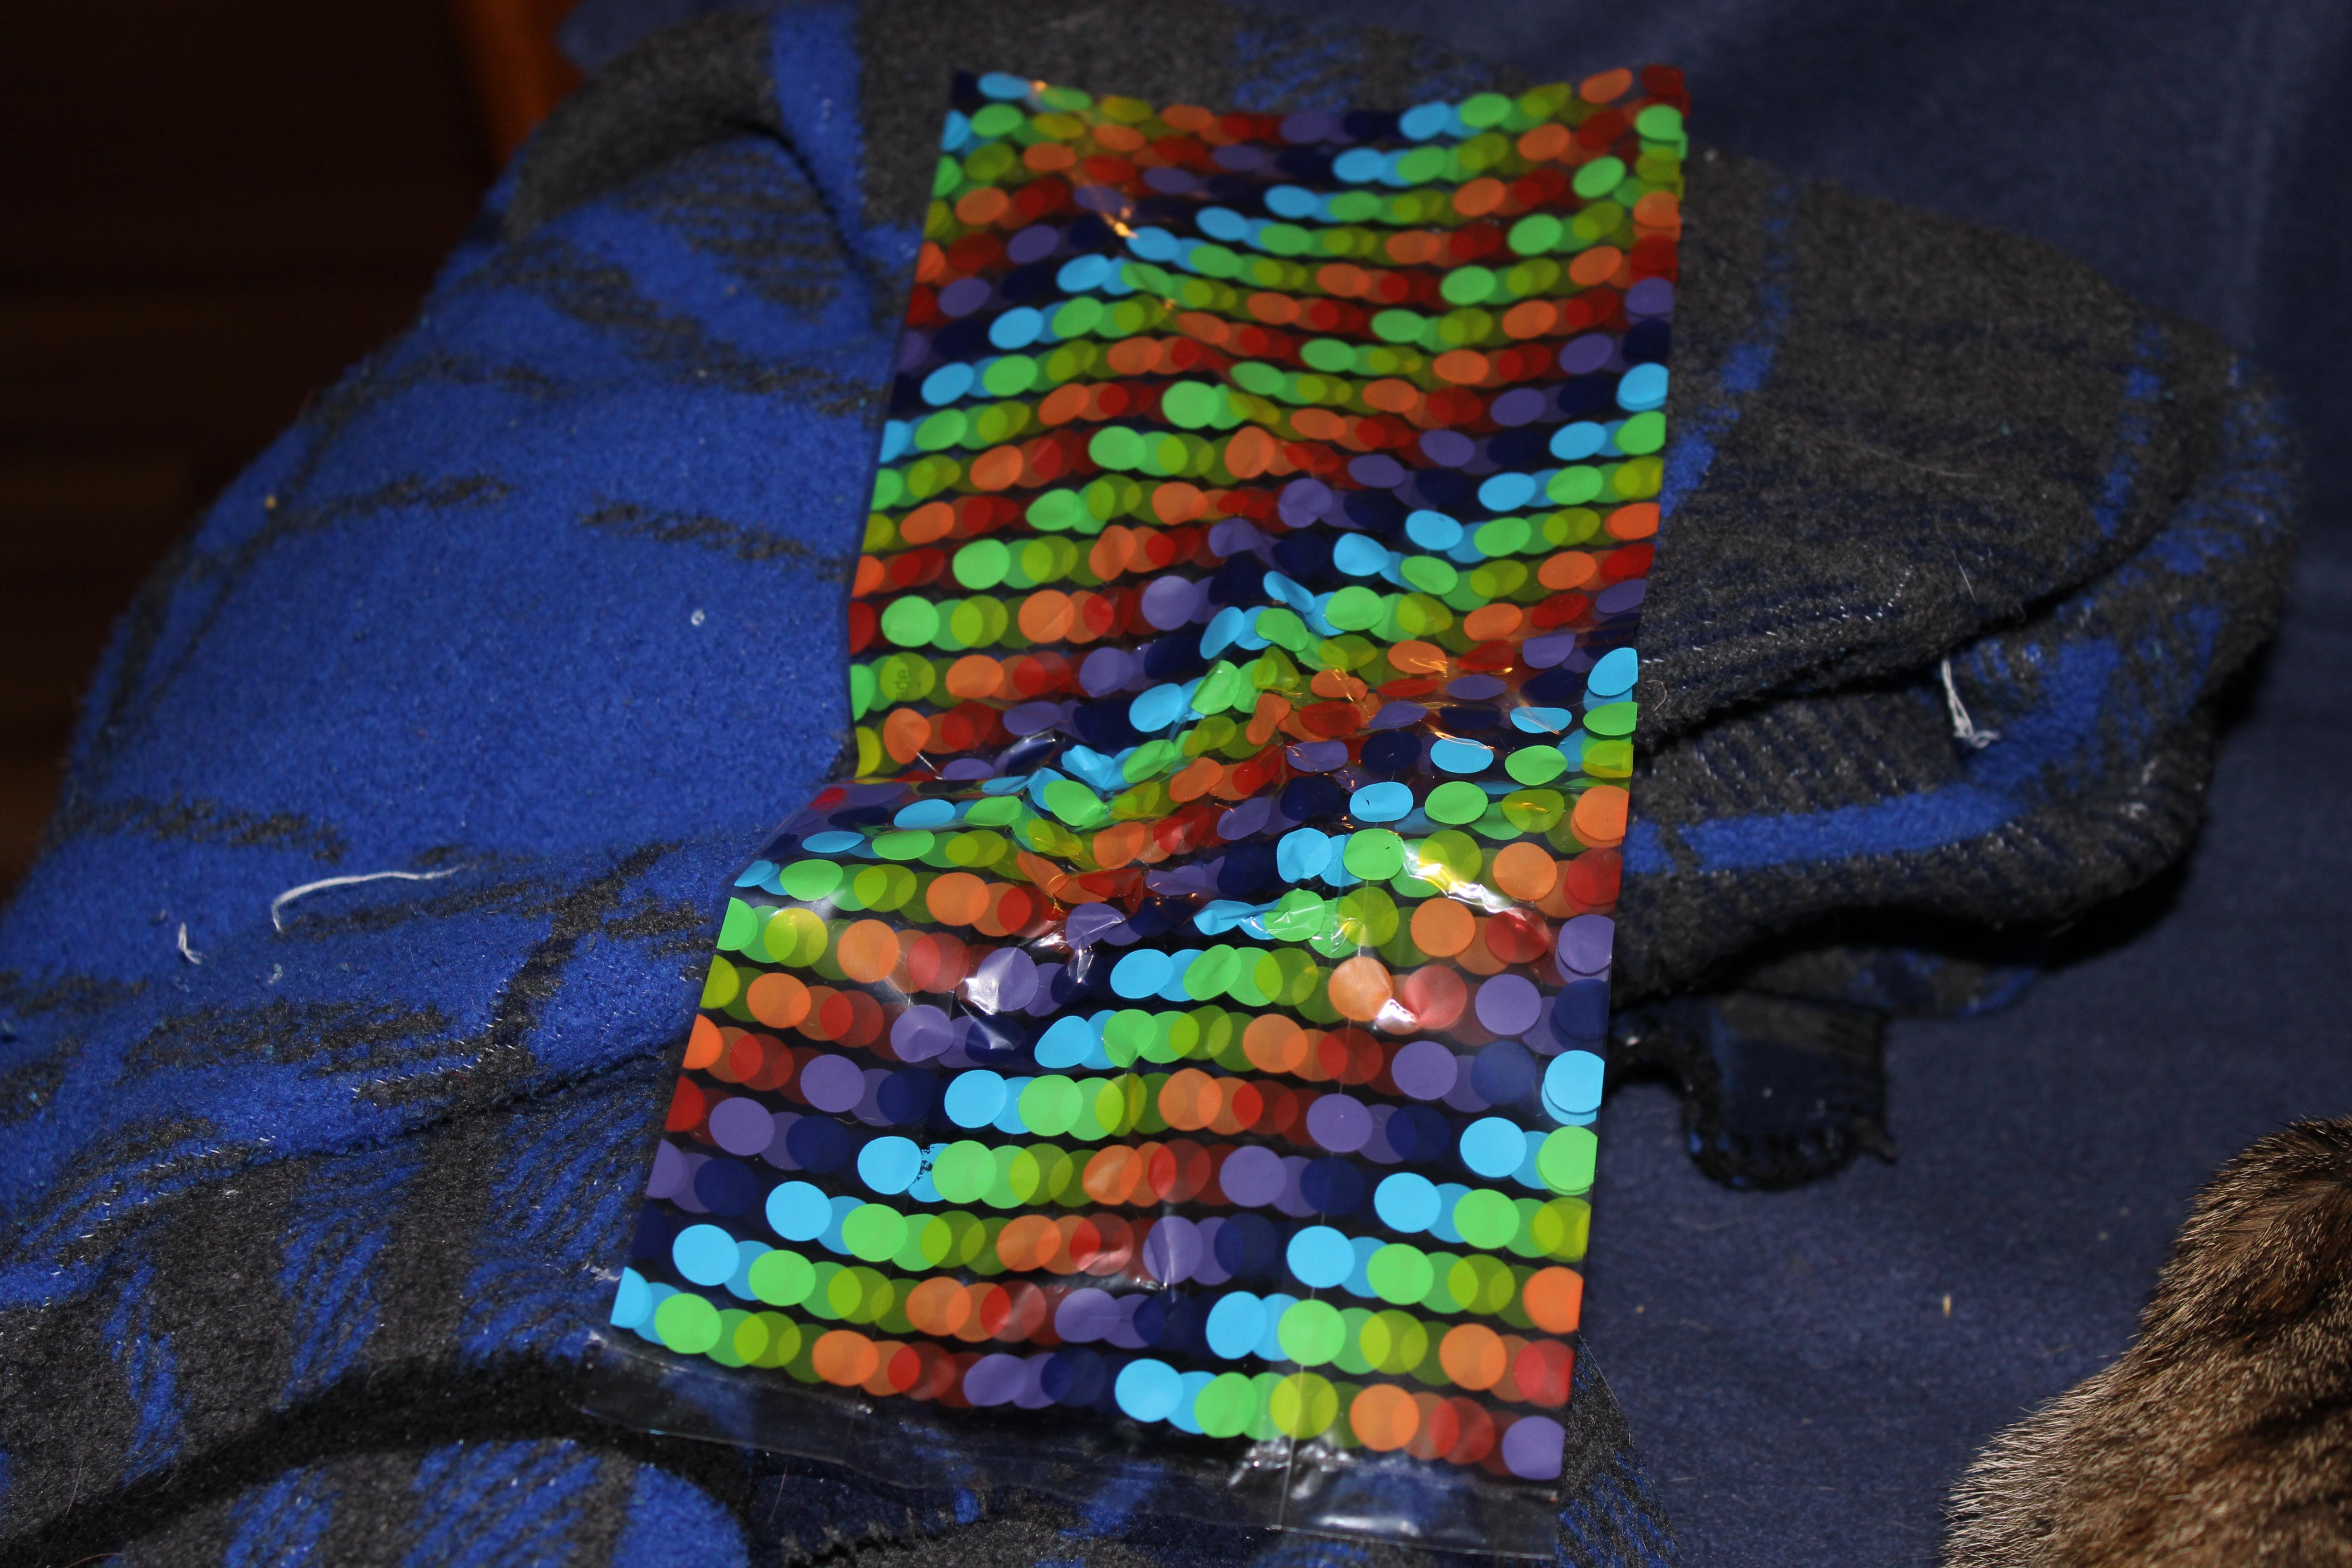giftBag: (567, 28, 1703, 1545)
